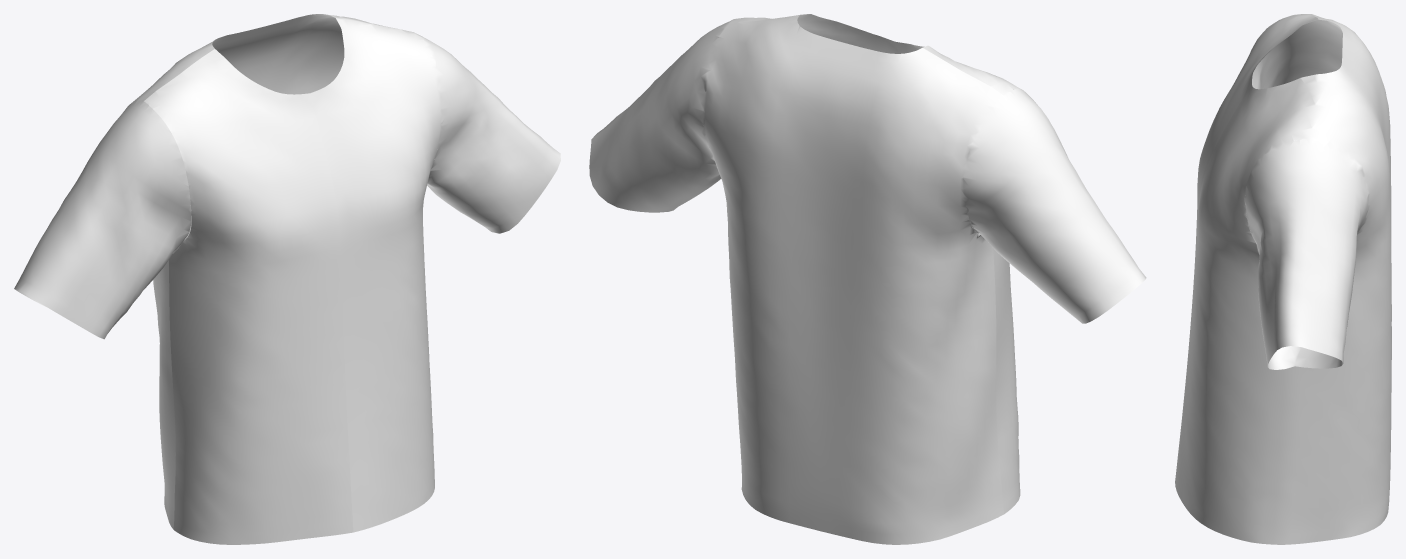
Rendered from Shirt.glb.
3 renders of one model, left to right at view 1: azimuth 30°, elevation 25°; view 2: azimuth 150°, elevation 25°; view 3: azimuth 270°, elevation 25°, orthographic. The views are drawn at different scales.
Parts seen in each view (by area): view 1: shirt; view 2: shirt; view 3: shirt.
Part boxes in pixels (x1,y1,x2,y2): shirt: (14, 14, 560, 544); shirt: (589, 14, 1146, 544); shirt: (1175, 14, 1391, 544).
Bounding box in the file's own units: 2.48 × 2.05 × 0.8996.
1 material, 1 textured.
